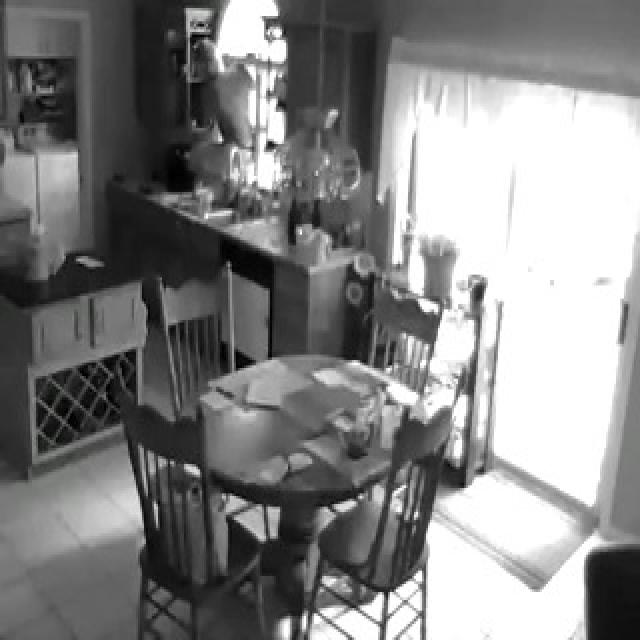thief: (175, 27, 285, 187)
